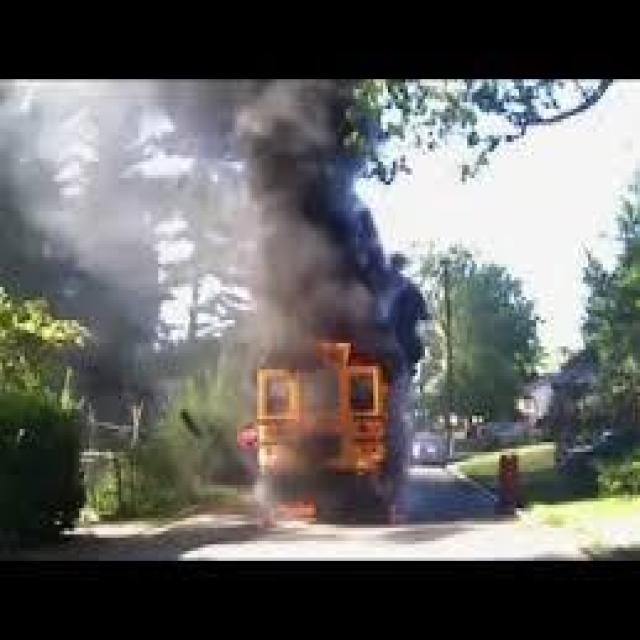smoke: (3, 77, 460, 355)
